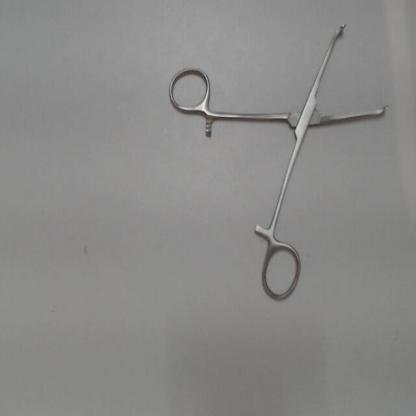Allis Tissue Forceps: (163, 11, 400, 307)
